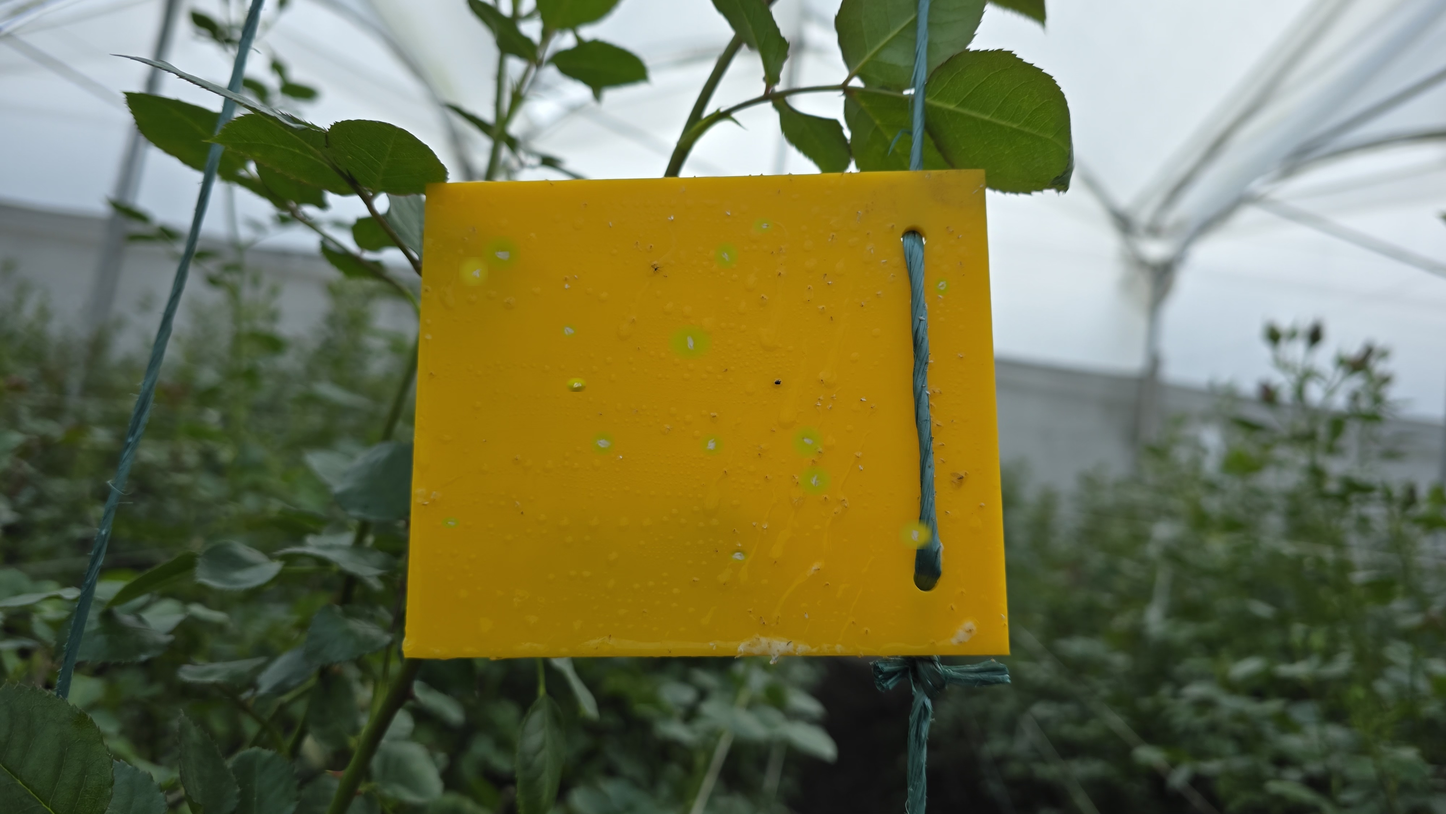WF: (674, 330, 705, 354), (488, 241, 514, 265), (796, 430, 818, 453), (803, 470, 826, 491), (904, 524, 927, 545), (463, 261, 484, 282), (718, 246, 735, 265), (594, 434, 611, 451), (703, 437, 720, 452), (755, 219, 770, 231), (936, 279, 947, 293), (731, 551, 745, 561), (569, 380, 583, 390), (444, 518, 457, 527), (563, 325, 574, 335), (710, 642, 718, 652), (858, 397, 868, 403), (762, 524, 770, 531), (858, 464, 865, 472), (725, 210, 732, 217), (667, 216, 675, 222), (936, 294, 944, 300), (881, 259, 889, 265), (619, 455, 626, 461), (608, 222, 614, 229), (826, 280, 833, 286), (565, 283, 570, 291), (752, 522, 758, 528), (804, 613, 809, 620)
